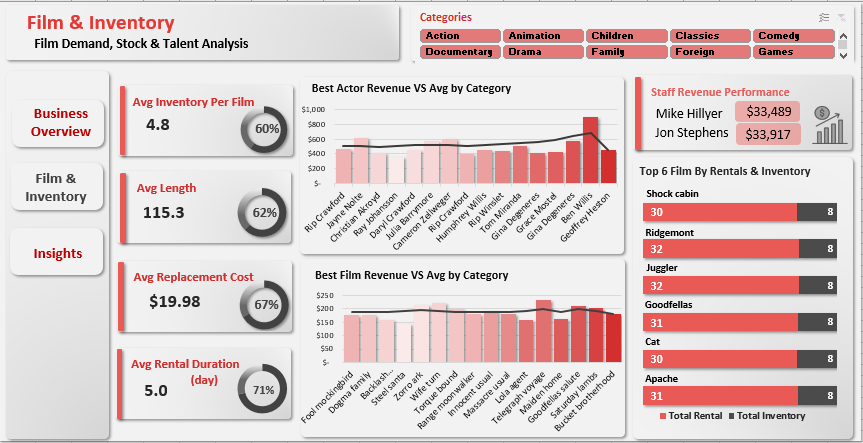

The page's visual inventory and layout, read from the dashboard file:
{"tool":"powerbi","page":{"name":"film & inventory","canvas":[1280,720],"ordinal":1},"visuals":[{"type":"shape","box":[0,0,1280.2,720],"z":0},{"type":"shape","box":[853.8,377.1,426.2,342.4],"z":1000},{"type":"shape","box":[865.4,103.7,414.7,283.7],"z":2000},{"type":"shape","box":[452.2,377.1,413.2,342.4],"z":3000},{"type":"pivotTable","fields":{"Rows":["best actor vs avg category.category","best actor vs avg category.actor_name"],"Values":["Sum(best actor vs avg category.revenue)"]},"box":[872.6,434.9,397.3,270.2],"z":4000},{"type":"shape","box":[0,0,556.2,99.7],"z":5000},{"type":"shape","box":[0,99.4,138,620.6],"z":6000},{"type":"shape","box":[578.7,0,701.3,99.4],"z":7000},{"type":"shape","box":[128.2,121,324,116.6],"z":8000},{"type":"shape","box":[452.2,104,414.6,283.2],"z":9000},{"type":"donutChart","fields":{"Category":["staff.staff_id"],"Y":["Sum(payment.amount)"]},"box":[453.6,157.5,413.2,210.9],"z":10000},{"type":"shape","box":[128.2,237.6,324,116.6],"z":11000},{"type":"shape","box":[128.2,351.4,324,116.6],"z":12000},{"type":"shape","box":[128.2,470.9,324,116.6],"z":13000},{"type":"shape","box":[128.2,587.5,324,116.6],"z":14000},{"type":"columnChart","fields":{"Category":["store.store_id"],"Y":["Sum(payment.amount)"]},"box":[877,157,385.9,220.3],"z":15000},{"type":"clusteredBarChart","fields":{"Category":["film.title"],"Y":["CountNonNull(inventory.inventory_id)","CountNonNull(rental.rental_id)"]},"box":[468.1,419,375.6,293.3],"z":16000},{"type":"textbox","box":[34.6,17.3,544.3,64.8],"z":17000},{"type":"textbox","box":[54.7,51.8,542.9,37.4],"z":18000},{"type":"textbox","box":[157,139.7,162.7,37.4],"z":19000},{"type":"textbox","box":[154.1,262.1,253.4,37.4],"z":20000},{"type":"textbox","box":[157,368.6,162.7,37.4],"z":21000},{"type":"textbox","box":[157,492.5,237.6,37.4],"z":22000},{"type":"textbox","box":[157,610.6,210.2,37.4],"z":23000},{"type":"shape","box":[131,121,25.9,116.6],"z":24000},{"type":"shape","box":[131,234.7,25.9,116.6],"z":25000},{"type":"shape","box":[131,351.4,25.9,116.6],"z":26000},{"type":"shape","box":[131,470.9,25.9,116.6],"z":27000},{"type":"shape","box":[131,589,25.9,116.6],"z":28000},{"type":"cardVisual","fields":{"Data":["actor.total actor"]},"box":[236.2,178.6,103.7,69.1],"z":29000},{"type":"cardVisual","fields":{"Data":["actor.avg inventory per film"]},"box":[178.6,273.6,167,80.6],"z":30000},{"type":"cardVisual","fields":{"Data":["actor.avg length"]},"box":[178.6,387.4,154.1,76.3],"z":31000},{"type":"cardVisual","fields":{"Data":["actor.avg replacement cost"]},"box":[178.6,509.8,154.1,76.3],"z":32000},{"type":"cardVisual","fields":{"Data":["actor.avg rentals duration"]},"box":[196.5,629.9,137.2,72.2],"z":33000},{"type":"image","box":[290.4,157.5,193.6,67.9],"z":34000},{"type":"cardVisual","fields":{"Data":["actor.per avg replacement cost"]},"box":[343.8,494.1,101.1,72.2],"z":35000},{"type":"donutChart","fields":{"Y":["actor.per avg inventory per film","actor.remaining avg inventory%"]},"box":[317.8,245.6,145.9,105.5],"z":36000},{"type":"cardVisual","fields":{"Data":["actor.per avg inventory per film"]},"box":[342.4,242.7,109.8,106.9],"z":37000},{"type":"donutChart","fields":{"Y":["actor.remaining avh length%","actor.per avg length"]},"box":[336.6,355.4,109.8,106],"z":38000},{"type":"cardVisual","fields":{"Data":["actor.per avg length"]},"box":[342.4,345.3,101.1,119.9],"z":39000},{"type":"donutChart","fields":{"Y":["actor.remaing avh replacement cost","actor.per avg replacement cost"]},"box":[338.1,479.6,108.4,106.9],"z":40000},{"type":"donutChart","fields":{"Y":["actor.per rentals duration","actor.remaining pec rentals duration"]},"box":[336.6,595.2,109.8,106.9],"z":41000},{"type":"cardVisual","fields":{"Data":["actor.per rentals duration"]},"box":[345.3,595.2,102.6,101.1],"z":42000},{"type":"textbox","box":[484,121.4,260,37.6],"z":43000},{"type":"textbox","box":[895.7,393,351.1,37.6],"z":44000},{"type":"textbox","box":[468.1,395.8,319.3,37.6],"z":45000},{"type":"textbox","box":[895.7,125.7,260,36.1],"z":46000},{"type":"slicer","fields":{"Values":["film.rating"]},"box":[598.1,17.3,164.7,70.8],"z":47000},{"type":"slicer","fields":{"Values":["store.store_id"]},"box":[779,11.5,208.8,77.8],"z":48000},{"type":"slicer","fields":{"Values":["category.name"]},"box":[1003.7,11.5,256.3,77.8],"z":49000},{"type":"shape","box":[0,252.8,128.6,101.1],"z":50000},{"type":"shape","box":[0,367,128.6,102.6],"z":51000},{"type":"shape","box":[0,145.9,128.6,102.6],"z":52000},{"type":"actionButton","box":[13,408.8,99.7,40.5],"z":53000},{"type":"actionButton","box":[14.4,169,99.7,65],"z":54000},{"type":"textbox","box":[0,278.8,130,69.3],"z":55000},{"type":"cardVisual","fields":{"Data":["actor.avg actore revenue"]},"box":[180,149.8,162.7,66.2],"z":56000},{"type":"textbox","box":[157,197.3,108,37.4],"z":57000}]}

Visuals, with their boxes on the page's 1280x720 design canvas (x1, y1, x2, y2). These are canvas units, not pixel positions in the 863x443 screenshot, which may show the page scaled, cropped or inside an application window:
shape: select_region(0, 0, 1280, 720)
shape: select_region(854, 377, 1280, 720)
shape: select_region(865, 104, 1280, 387)
shape: select_region(452, 377, 865, 720)
pivotTable - best actor vs avg category.category x best actor vs avg category.actor_name: select_region(873, 435, 1270, 705)
shape: select_region(0, 0, 556, 100)
shape: select_region(0, 99, 138, 720)
shape: select_region(579, 0, 1280, 99)
shape: select_region(128, 121, 452, 238)
shape: select_region(452, 104, 867, 387)
donutChart - staff.staff_id x Sum(payment.amount): select_region(454, 158, 867, 368)
shape: select_region(128, 238, 452, 354)
shape: select_region(128, 351, 452, 468)
shape: select_region(128, 471, 452, 588)
shape: select_region(128, 588, 452, 704)
columnChart - store.store_id x Sum(payment.amount): select_region(877, 157, 1263, 377)
clusteredBarChart - film.title x CountNonNull(inventory.inventory_id): select_region(468, 419, 844, 712)
textbox: select_region(35, 17, 579, 82)
textbox: select_region(55, 52, 598, 89)
textbox: select_region(157, 140, 320, 177)
textbox: select_region(154, 262, 408, 300)
textbox: select_region(157, 369, 320, 406)
textbox: select_region(157, 492, 395, 530)
textbox: select_region(157, 611, 367, 648)
shape: select_region(131, 121, 157, 238)
shape: select_region(131, 235, 157, 351)
shape: select_region(131, 351, 157, 468)
shape: select_region(131, 471, 157, 588)
shape: select_region(131, 589, 157, 706)
cardVisual - actor.total actor: select_region(236, 179, 340, 248)
cardVisual - actor.avg inventory per film: select_region(179, 274, 346, 354)
cardVisual - actor.avg length: select_region(179, 387, 333, 464)
cardVisual - actor.avg replacement cost: select_region(179, 510, 333, 586)
cardVisual - actor.avg rentals duration: select_region(196, 630, 334, 702)
image: select_region(290, 158, 484, 225)
cardVisual - actor.per avg replacement cost: select_region(344, 494, 445, 566)
donutChart - actor.per avg inventory per film x actor.remaining avg inventory%: select_region(318, 246, 464, 351)
cardVisual - actor.per avg inventory per film: select_region(342, 243, 452, 350)
donutChart - actor.remaining avh length% x actor.per avg length: select_region(337, 355, 446, 461)
cardVisual - actor.per avg length: select_region(342, 345, 444, 465)
donutChart - actor.remaing avh replacement cost x actor.per avg replacement cost: select_region(338, 480, 446, 586)
donutChart - actor.per rentals duration x actor.remaining pec rentals duration: select_region(337, 595, 446, 702)
cardVisual - actor.per rentals duration: select_region(345, 595, 448, 696)
textbox: select_region(484, 121, 744, 159)
textbox: select_region(896, 393, 1247, 431)
textbox: select_region(468, 396, 787, 433)
textbox: select_region(896, 126, 1156, 162)
slicer - film.rating: select_region(598, 17, 763, 88)
slicer - store.store_id: select_region(779, 12, 988, 89)
slicer - category.name: select_region(1004, 12, 1260, 89)
shape: select_region(0, 253, 129, 354)
shape: select_region(0, 367, 129, 470)
shape: select_region(0, 146, 129, 248)
actionButton: select_region(13, 409, 113, 449)
actionButton: select_region(14, 169, 114, 234)
textbox: select_region(0, 279, 130, 348)
cardVisual - actor.avg actore revenue: select_region(180, 150, 343, 216)
textbox: select_region(157, 197, 265, 235)
